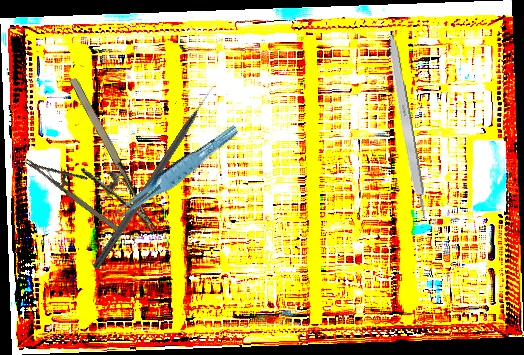Hook Surgical: (92, 84, 219, 272)
Needle Holder: (43, 74, 159, 252), (24, 140, 131, 235)
Scalpel Handle: (382, 29, 430, 222)
Tissue Forceps: (100, 123, 246, 226)
